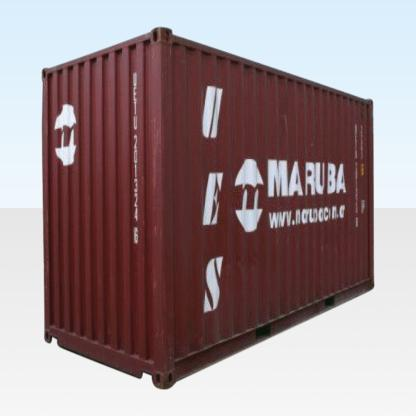Damage: (146, 111, 176, 376), (218, 248, 270, 278), (312, 223, 342, 258), (280, 98, 290, 134), (306, 124, 316, 153)
